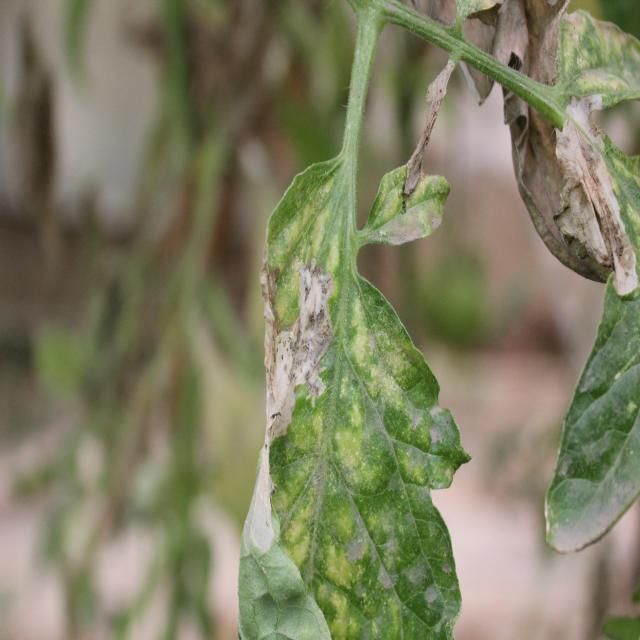Tuta absoluta: (241, 256, 340, 558), (536, 113, 640, 306), (569, 89, 621, 148)
